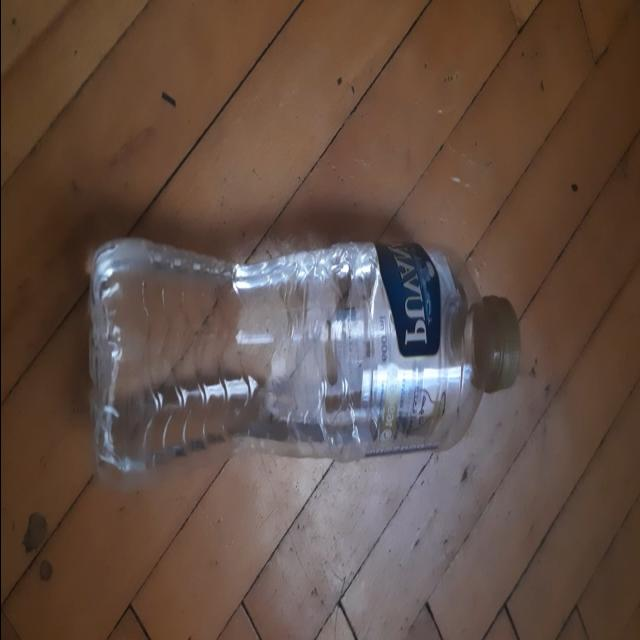Plastic: (84, 236, 519, 478)
